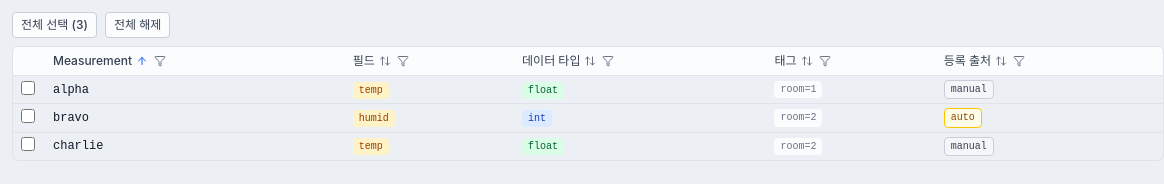
it: 필터 팝오버 배치 (회귀) › 다른 컬럼 필터를 열면 이전 것은 닫힌다
Click the button with test id "series-filter-field" at (403, 61), box top-left (395, 53), bottom-right (411, 69)
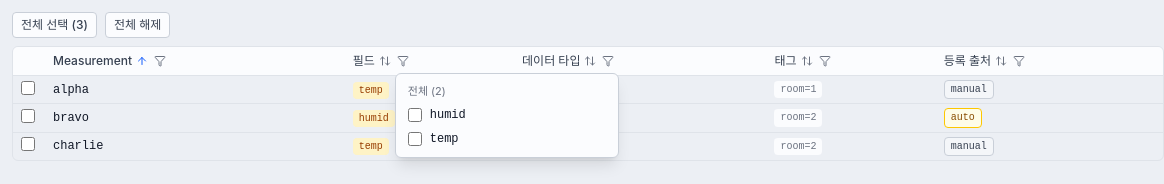
Click the button with test id "series-filter-dataType" at (608, 61), box top-left (600, 53), bottom-right (616, 69)
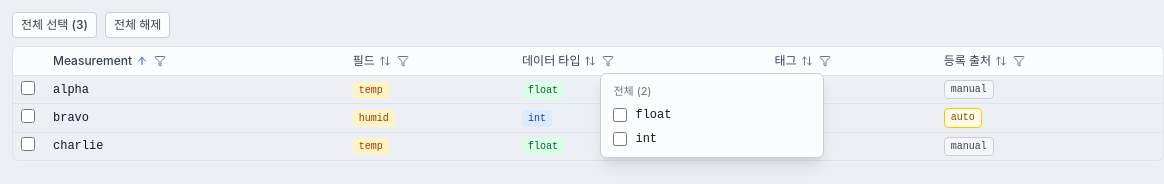
Result: the element with test id "series-filter-popover-field" is gone
Result: the element with test id "series-filter-popover-dataType" is shown at top-left (600, 73), bottom-right (824, 158)
